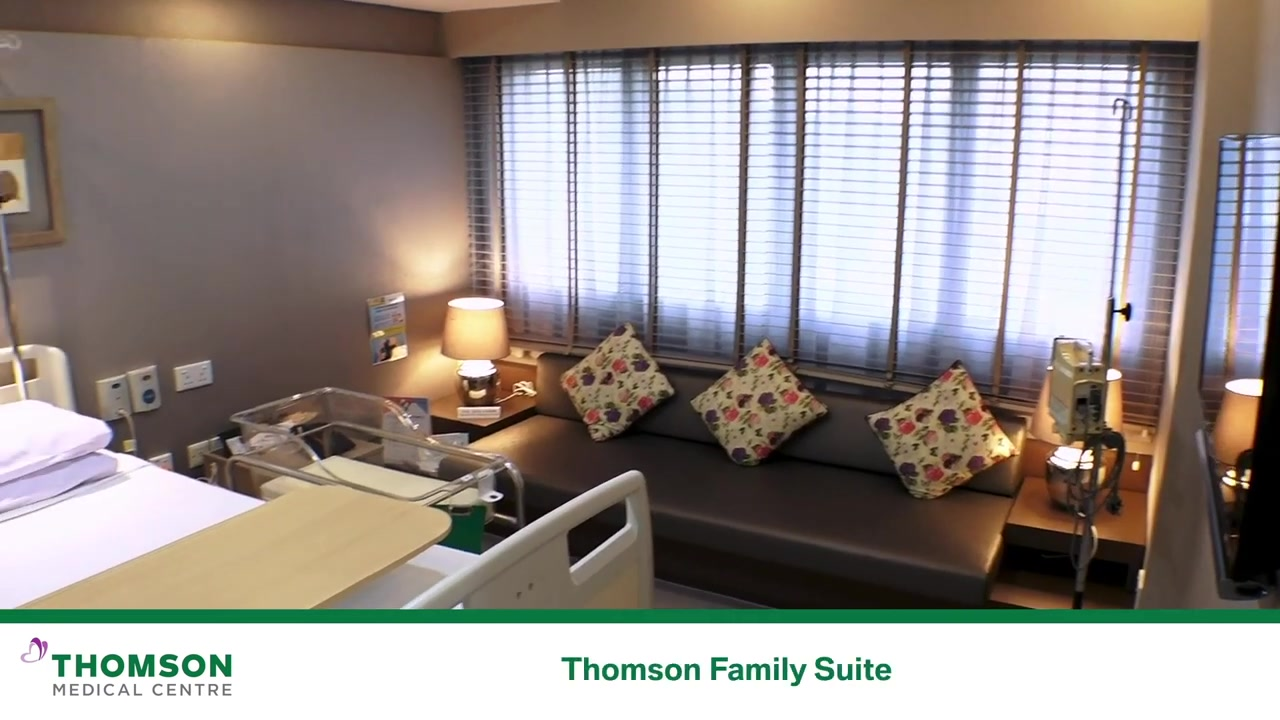foot_board: (397, 479, 653, 619)
hospital_bed: (1, 344, 656, 610)
iv_pole: (1070, 98, 1134, 609), (1, 192, 30, 400)
overbed_table: (11, 485, 453, 609)
sofa: (465, 351, 1027, 609)
table: (1002, 475, 1147, 609), (428, 387, 536, 445)
